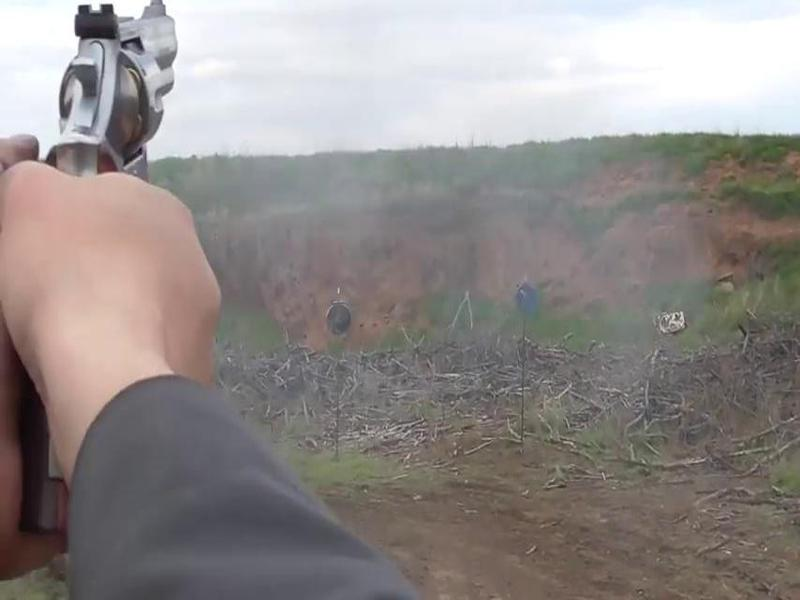Revolver: (40, 2, 189, 188)
